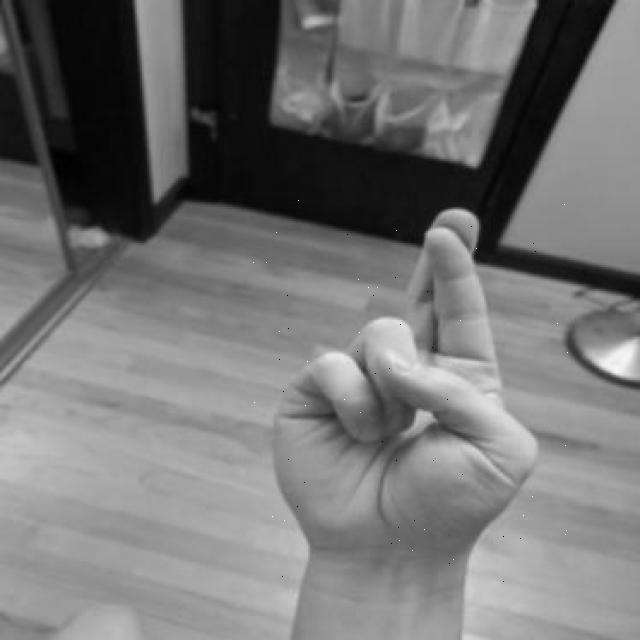R: (251, 187, 576, 589)
